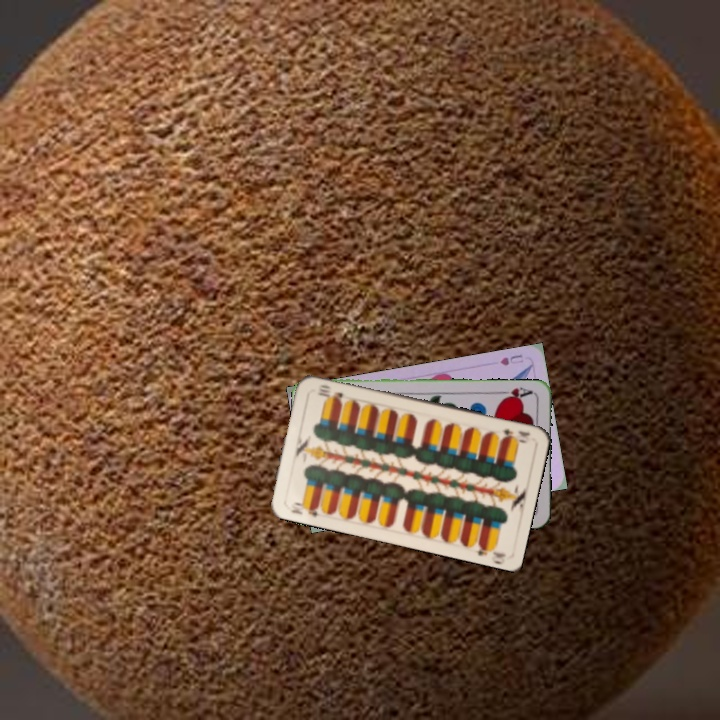E10: (287, 498, 323, 520), (498, 425, 533, 446)
HA: (495, 384, 535, 403)
HU: (496, 350, 526, 368)
